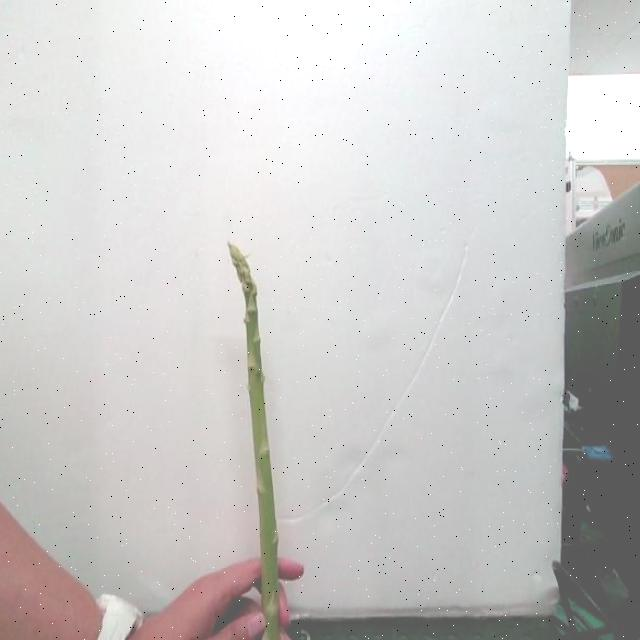aspargus: (230, 245, 288, 640)
